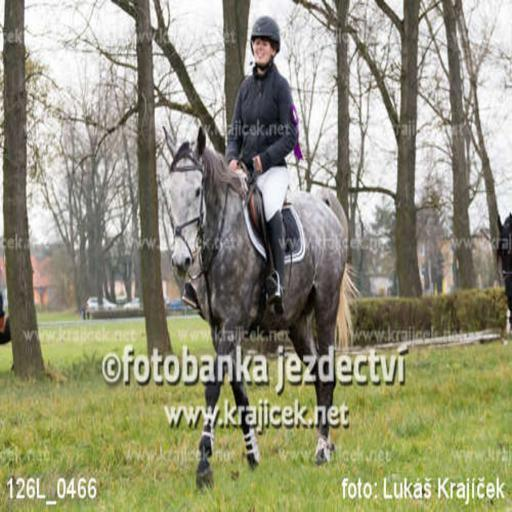horse: (162, 122, 362, 490)
